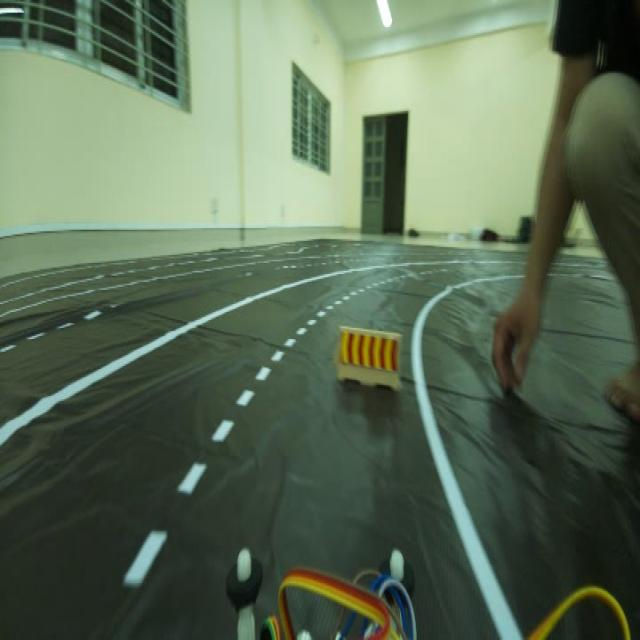roadblock: (333, 315, 407, 407)
